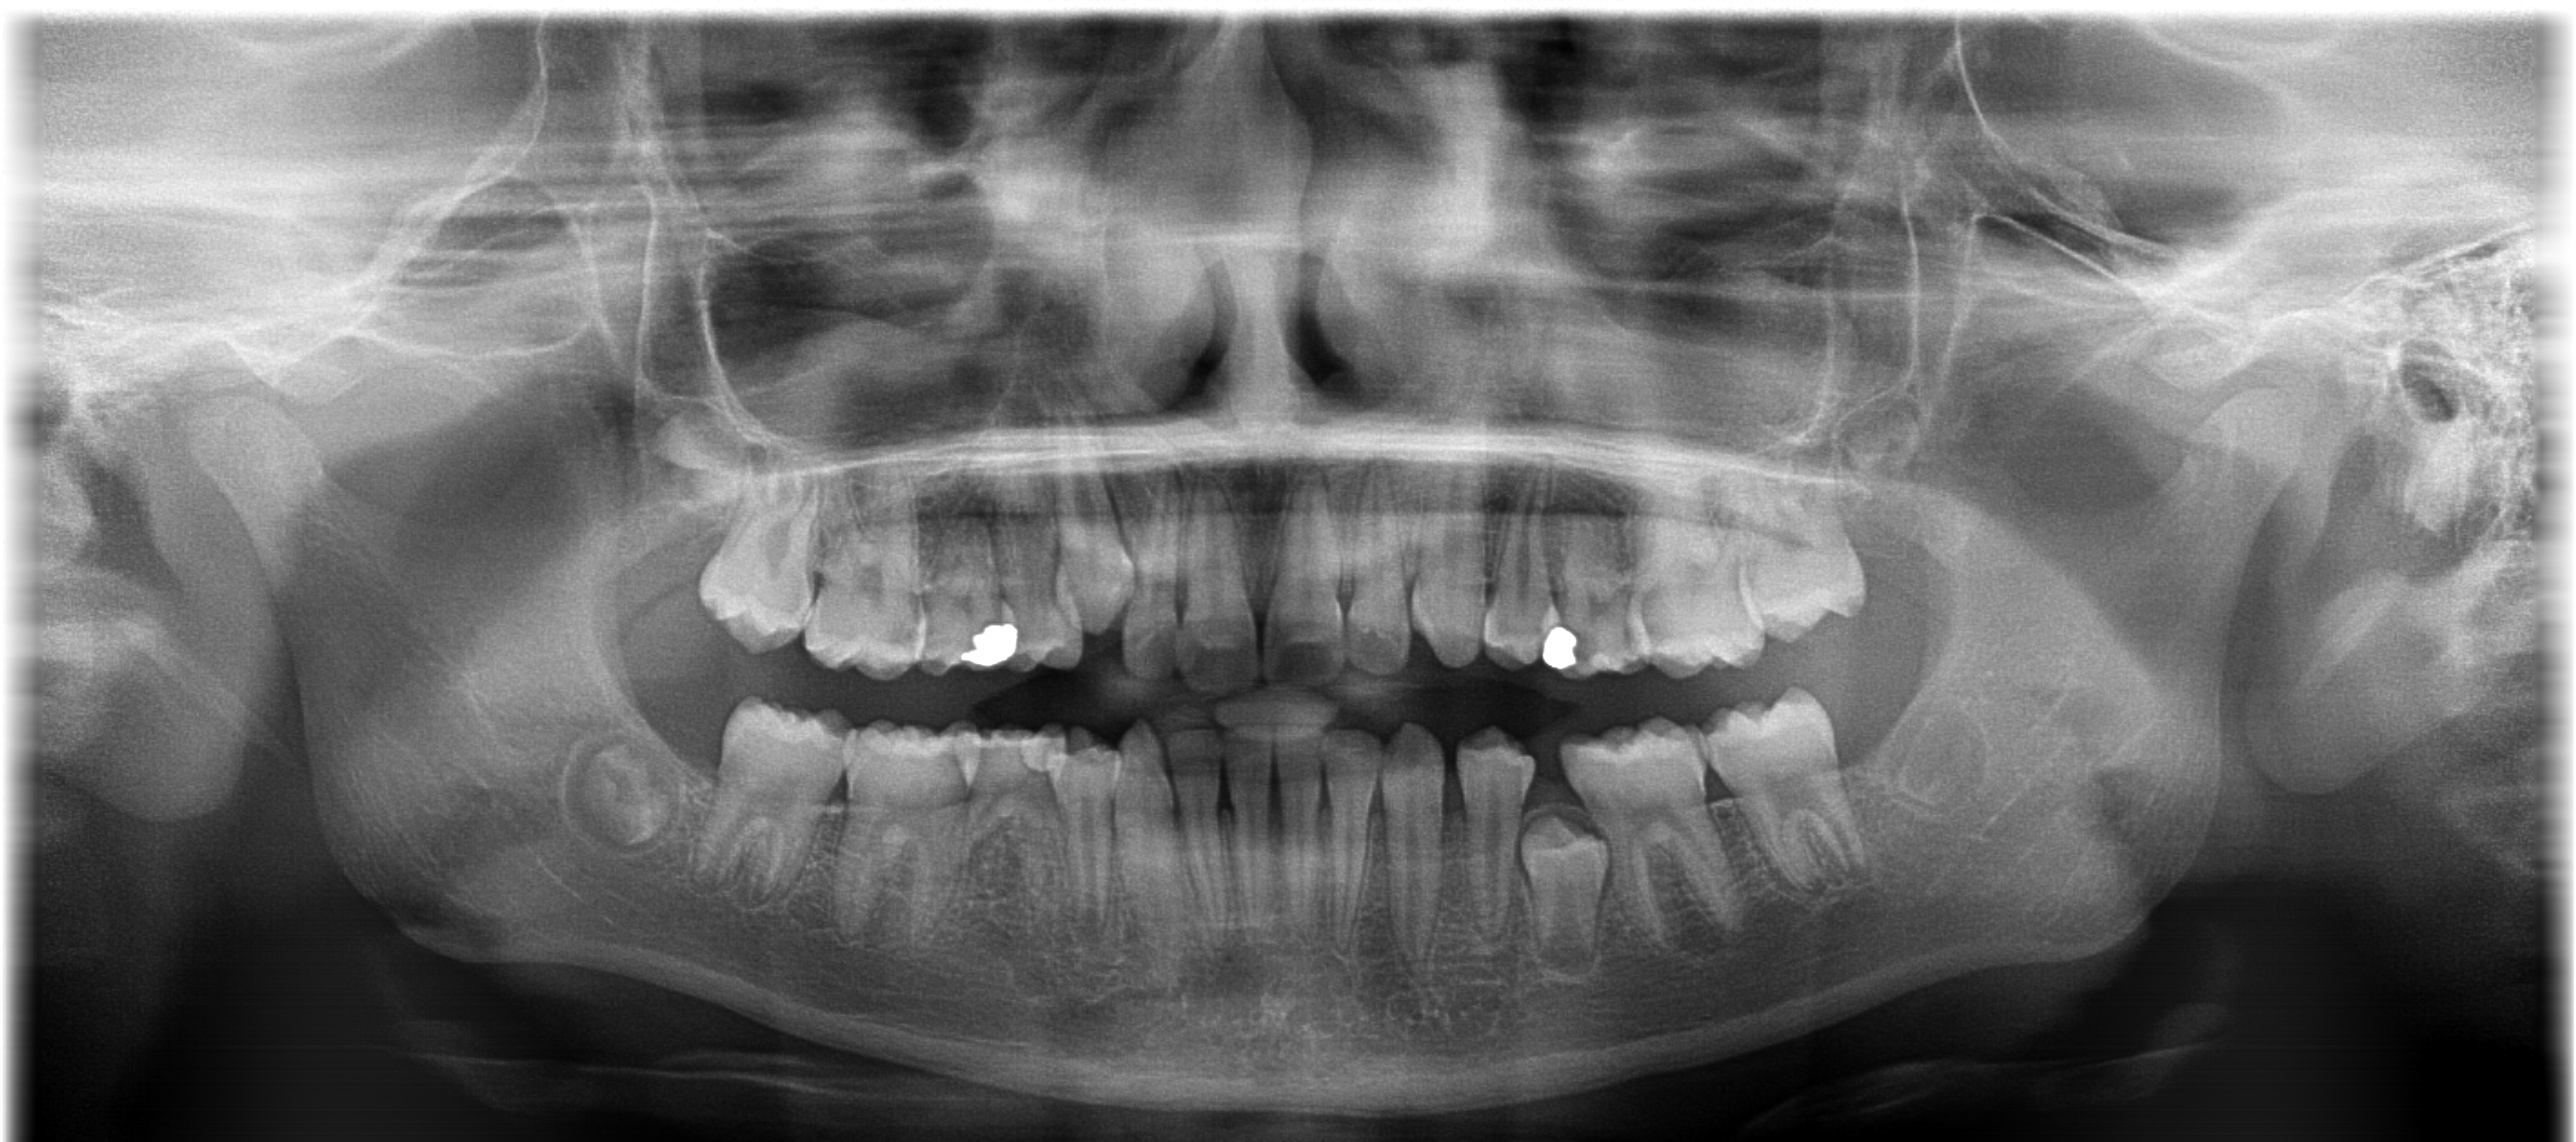cordal: (531, 698, 713, 886), (1866, 693, 2011, 843)
diente_retenido: (1505, 789, 1635, 996)
diente_rotado: (1089, 713, 1203, 1002)
